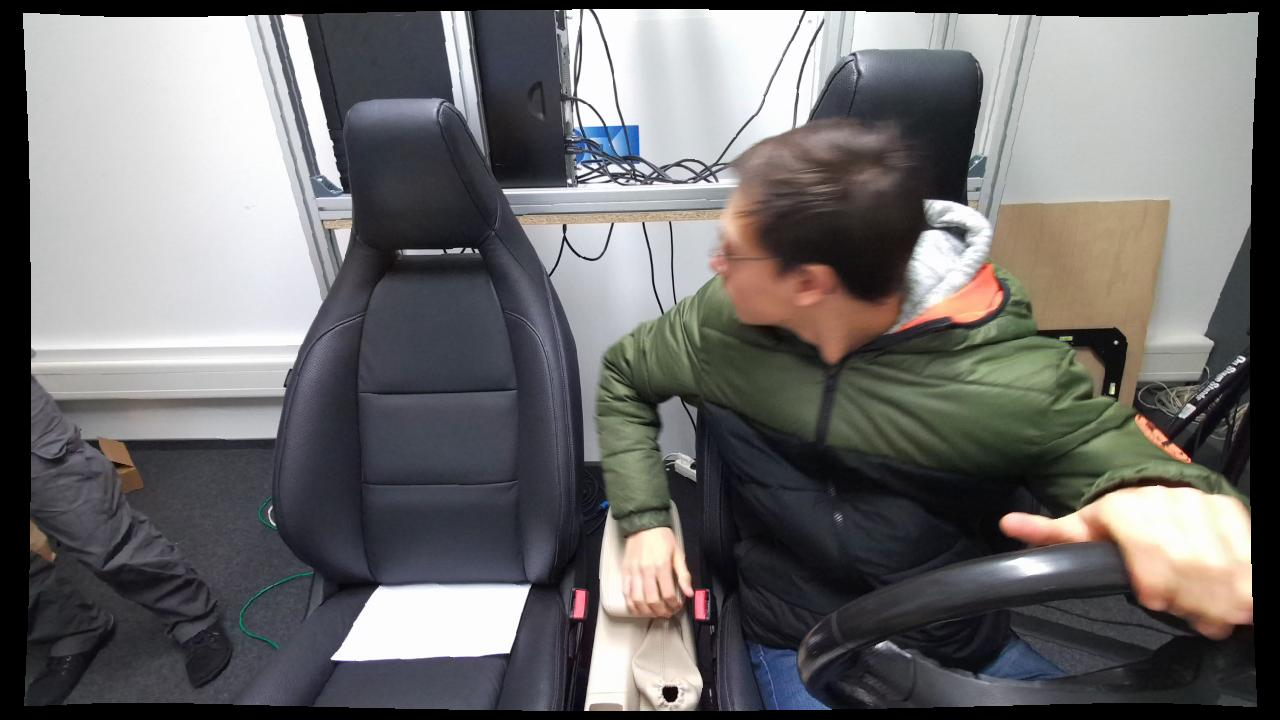Distracted: (658, 105, 1125, 707)
